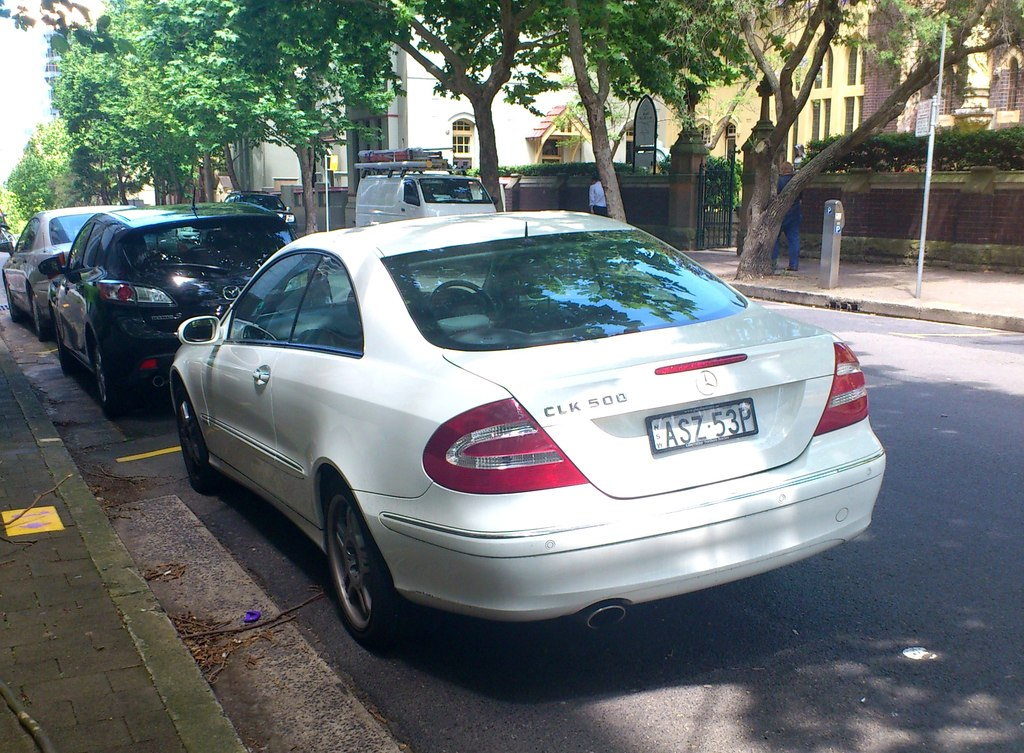license plate: (644, 421, 762, 455)
